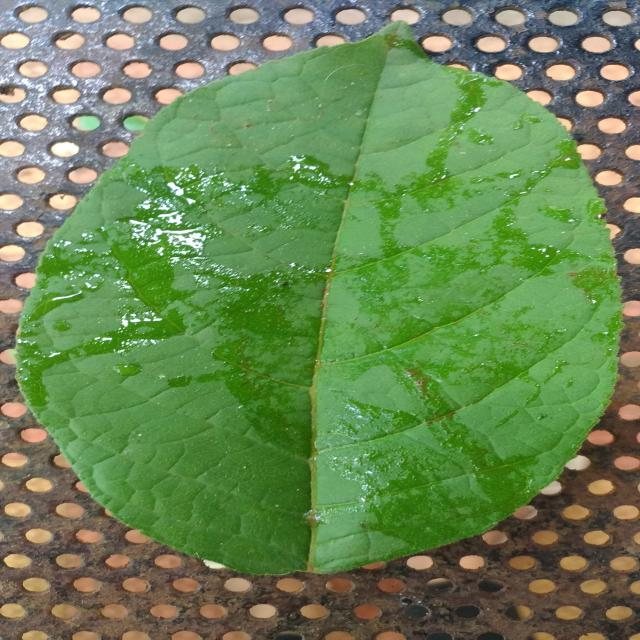padri: (18, 24, 620, 575)
